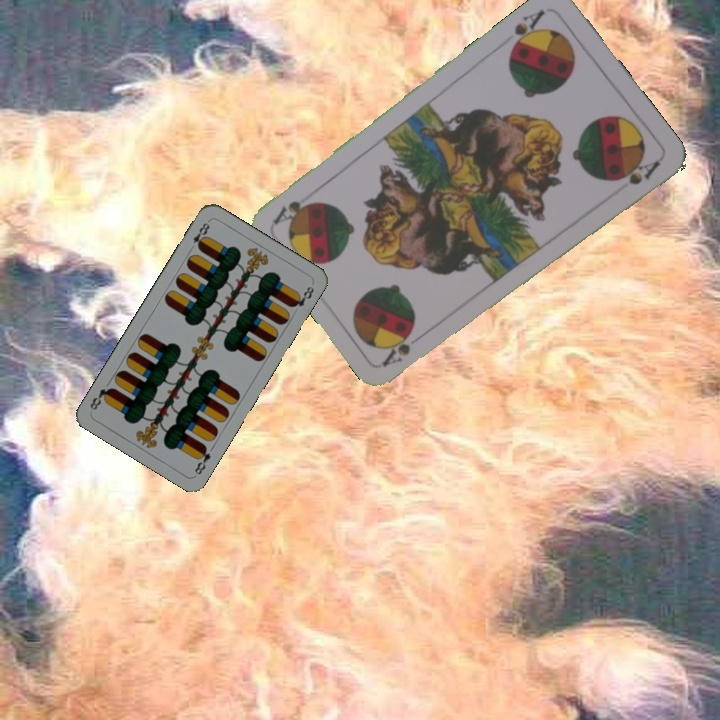E8: (190, 441, 213, 477), (189, 217, 212, 252)
SA: (506, 5, 548, 55), (379, 334, 413, 369)
